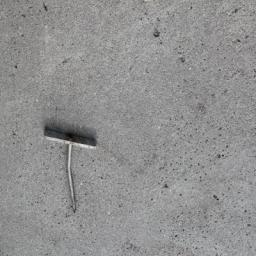FOD: (42, 127, 100, 215)
